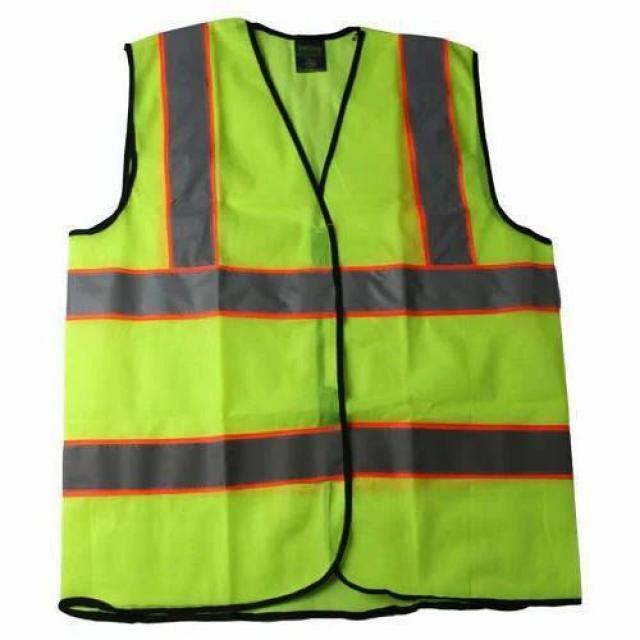reflective_jacket: (7, 6, 608, 639)
